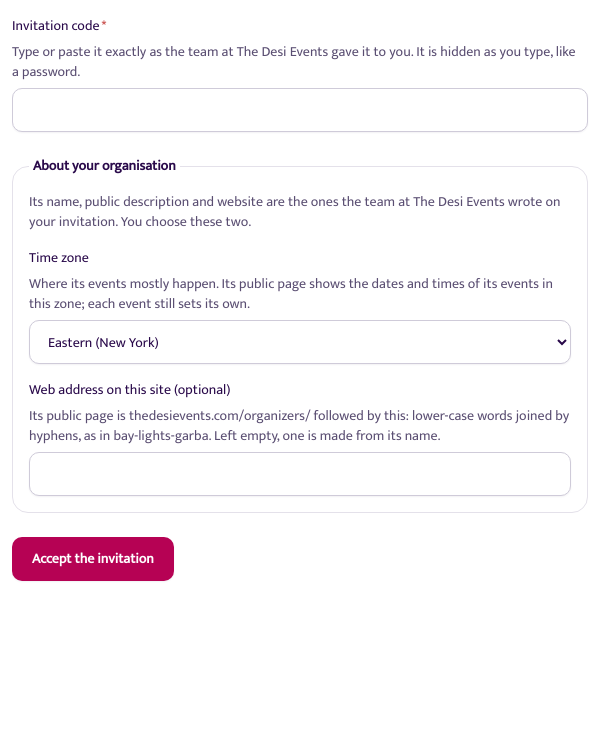
Test case: the accept form › says, under the web address and in the form’s own words, when the name makes no web address
The image size is (609, 747).
Type "Pq7_wE0-rT3yU6iO9pA2sD5fG8hJ1kL4zX7cV0bN3m" into the password field labelled "Invitation code*" at (300, 110), box [12,88,588,132]
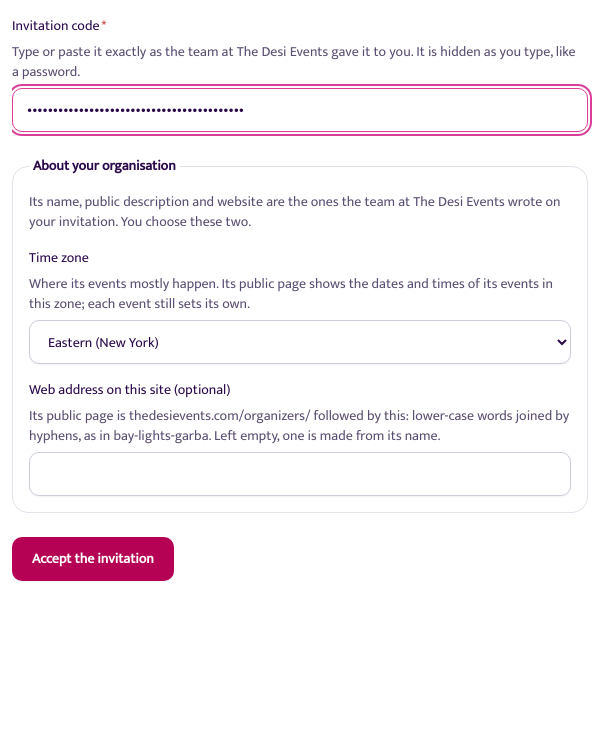
Click the button "Accept the invitation" at (93, 559), box [12,537,174,581]
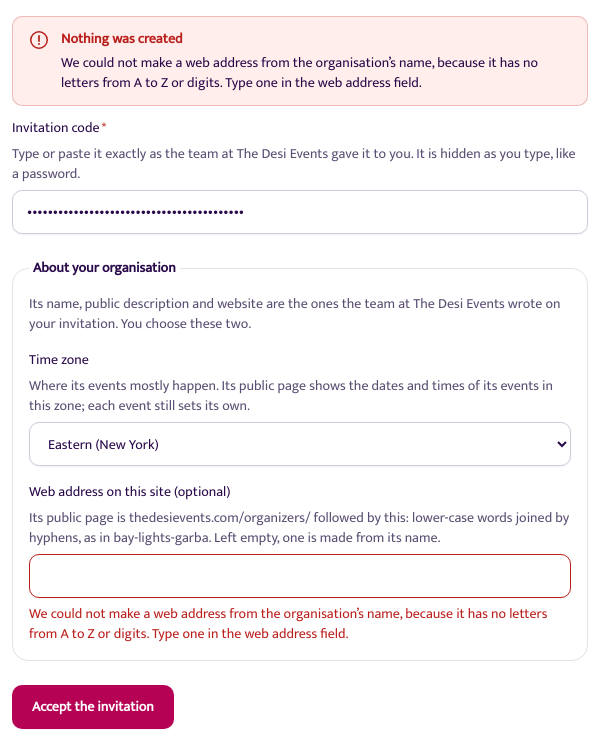
Check: the text "We could not make a web address from the organisation’s name, because it has no letters from A to Z or digits. Type one " below "Nothing was created" is shown, box [61,51,538,94]
